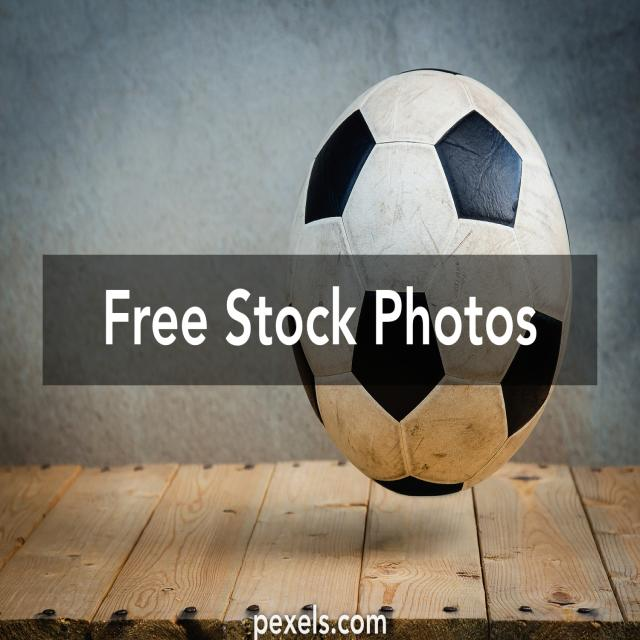soccer ball: (287, 69, 574, 494)
